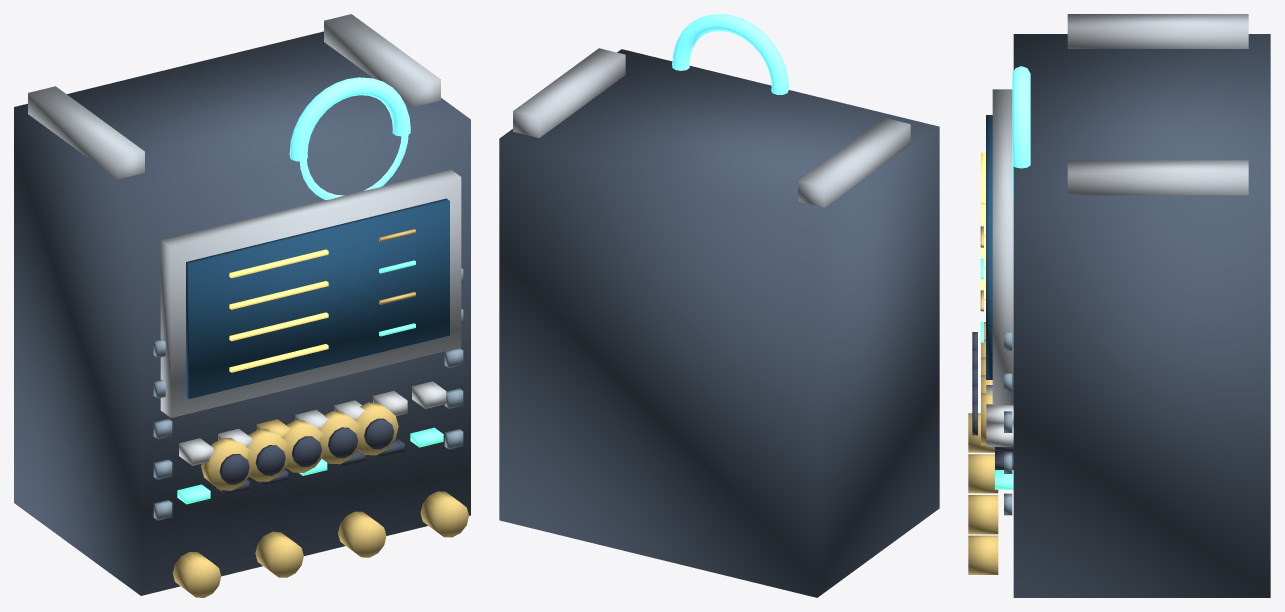
The model's file is 53_L85_FuelReserveAndAbortPredictor.glb.
3 views of the same model, side by side, from view 1: azimuth 30°, elevation 25°; view 2: azimuth 150°, elevation 25°; view 3: azimuth 270°, elevation 25° (orthographic). The views are drawn at different scales.
Visible parts, largest first — view 1: L85_FuelReserveAndAbortPredic_Part_0000, L85_FuelReserveAndAbortPredic_Part_0002, L85_FuelReserveAndAbortPredic_Part_0001, L85_FuelReserveAndAbortPredic_Part_0004, L85_FuelReserveAndAbortPredic_Part_0009, L85_FuelReserveAndAbortPredic_Part_0006, L85_FuelReserveAndAbortPredic_Part_0008, L85_FuelReserveAndAbortPredic_Part_0003, L85_FuelReserveAndAbortPredic_Part_0005, L85_FuelReserveAndAbortPredic_Part_0010, L85_FuelReserveAndAbortPredic_Part_0012, L85_FuelReserveAndAbortPredic_Part_0018 (+8 smaller); view 2: L85_FuelReserveAndAbortPredic_Part_0000, L85_FuelReserveAndAbortPredic_Part_0001, L85_FuelReserveAndAbortPredic_Part_0009; view 3: L85_FuelReserveAndAbortPredic_Part_0000, L85_FuelReserveAndAbortPredic_Part_0001, L85_FuelReserveAndAbortPredic_Part_0004, L85_FuelReserveAndAbortPredic_Part_0009, L85_FuelReserveAndAbortPredic_Part_0002, L85_FuelReserveAndAbortPredic_Part_0006, L85_FuelReserveAndAbortPredic_Part_0008, L85_FuelReserveAndAbortPredic_Part_0003, L85_FuelReserveAndAbortPredic_Part_0005.
Part boxes in pixels (x1=…): L85_FuelReserveAndAbortPredic_Part_0000: x1=14, y1=31, x2=470, y2=595; L85_FuelReserveAndAbortPredic_Part_0002: x1=186, y1=198, x2=449, y2=398; L85_FuelReserveAndAbortPredic_Part_0001: x1=28, y1=14, x2=461, y2=417; L85_FuelReserveAndAbortPredic_Part_0004: x1=173, y1=229, x2=468, y2=597; L85_FuelReserveAndAbortPredic_Part_0009: x1=289, y1=77, x2=410, y2=199; L85_FuelReserveAndAbortPredic_Part_0006: x1=179, y1=381, x2=446, y2=465; L85_FuelReserveAndAbortPredic_Part_0008: x1=153, y1=268, x2=463, y2=520; L85_FuelReserveAndAbortPredic_Part_0003: x1=229, y1=249, x2=328, y2=372; L85_FuelReserveAndAbortPredic_Part_0005: x1=177, y1=260, x2=443, y2=504; L85_FuelReserveAndAbortPredic_Part_0010: x1=201, y1=437, x2=252, y2=490; L85_FuelReserveAndAbortPredic_Part_0012: x1=247, y1=429, x2=289, y2=481; L85_FuelReserveAndAbortPredic_Part_0018: x1=355, y1=402, x2=398, y2=455; L85_FuelReserveAndAbortPredic_Part_0000: x1=499, y1=49, x2=939, y2=597; L85_FuelReserveAndAbortPredic_Part_0001: x1=513, y1=48, x2=910, y2=207; L85_FuelReserveAndAbortPredic_Part_0009: x1=672, y1=14, x2=788, y2=94; L85_FuelReserveAndAbortPredic_Part_0000: x1=1013, y1=34, x2=1270, y2=597; L85_FuelReserveAndAbortPredic_Part_0001: x1=992, y1=14, x2=1248, y2=405; L85_FuelReserveAndAbortPredic_Part_0004: x1=968, y1=226, x2=998, y2=574; L85_FuelReserveAndAbortPredic_Part_0009: x1=1012, y1=66, x2=1030, y2=198; L85_FuelReserveAndAbortPredic_Part_0002: x1=986, y1=115, x2=992, y2=379; L85_FuelReserveAndAbortPredic_Part_0006: x1=986, y1=385, x2=1013, y2=446; L85_FuelReserveAndAbortPredic_Part_0008: x1=1004, y1=332, x2=1012, y2=515; L85_FuelReserveAndAbortPredic_Part_0003: x1=981, y1=152, x2=985, y2=299; L85_FuelReserveAndAbortPredic_Part_0005: x1=980, y1=258, x2=1013, y2=489.
Size of the model in its own units: 0.9588 by 1.28 by 0.752.
